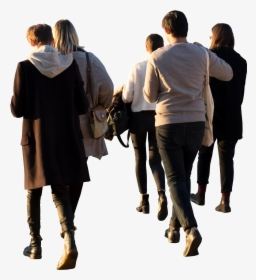person: (143, 9, 235, 258), (10, 23, 91, 273), (190, 24, 249, 213), (52, 20, 114, 187), (121, 32, 169, 222)
